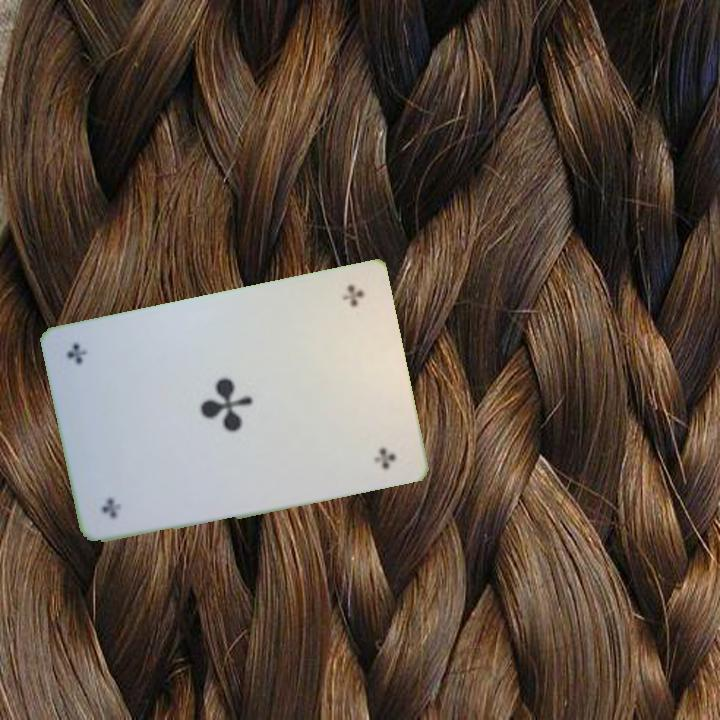c_a.png: (76, 417, 180, 531), (288, 277, 391, 391)
